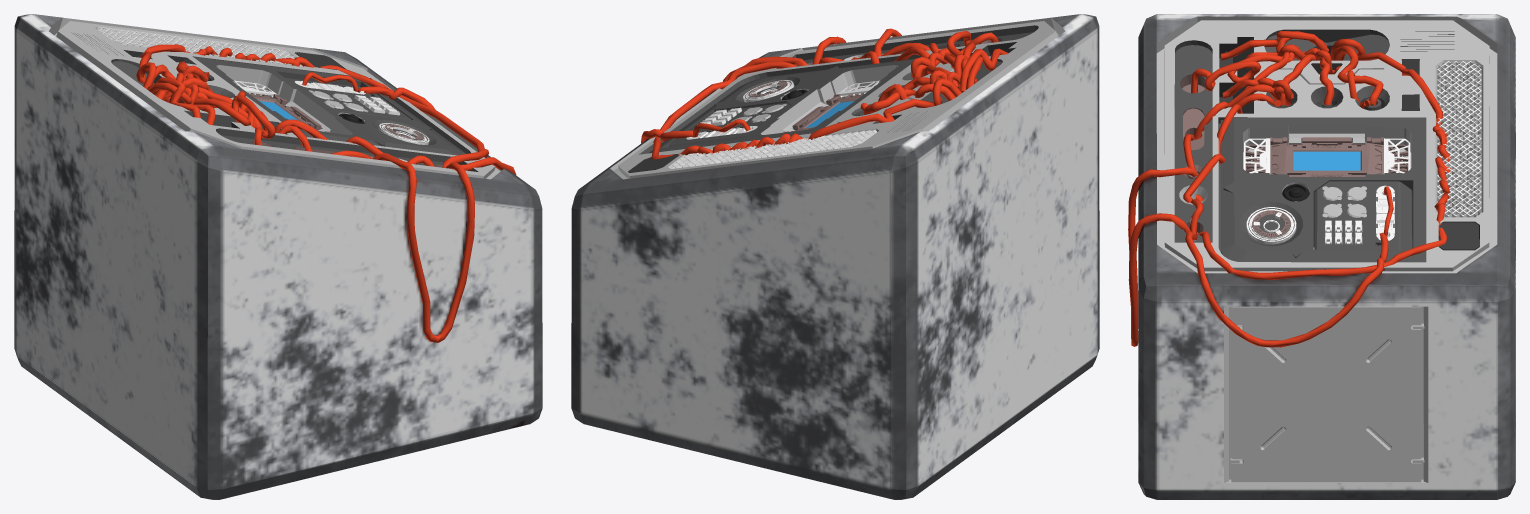
File: Console-Medium.fbx
3 views of the same model, side by side, from view 1: azimuth 30°, elevation 25°; view 2: azimuth 150°, elevation 25°; view 3: azimuth 270°, elevation 25° (orthographic). The views are drawn at different scales.
Visible parts, largest first — view 1: Console-Medium, Cable.006, Console-Medium.002, Console-Medium.007, Console-Medium.701; view 2: Console-Medium, Cable.006, Console-Medium.002, Console-Medium.007, Console-Medium.701; view 3: Console-Medium, Console-Medium.001, Cable.006, Console-Medium.002, Console-Medium.007, Console-Medium.701, Console-Medium.102.
Part boxes in pixels (x1,y1,x2,y2): Console-Medium: (14,14,542,499); Cable.006: (136,44,516,342); Console-Medium.002: (97,27,302,66); Console-Medium.007: (234,80,330,132); Console-Medium.701: (378,123,429,145); Console-Medium: (571,14,1099,499); Cable.006: (641,28,1008,159); Console-Medium.002: (670,129,876,168); Console-Medium.007: (783,80,879,132); Console-Medium.701: (743,80,794,102); Console-Medium: (1138,14,1515,499); Console-Medium.001: (1231,306,1421,482); Cable.006: (1128,31,1451,347); Console-Medium.002: (1437,61,1481,217); Console-Medium.007: (1244,137,1410,176); Console-Medium.701: (1246,207,1296,244); Console-Medium.102: (1376,185,1394,240).
Bounding box in the file's own units: 207 × 199 × 205.
